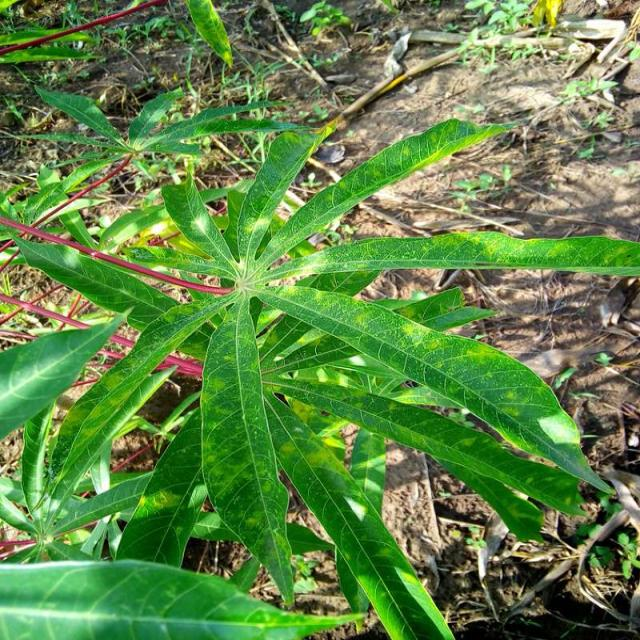cassava leaf: (2, 103, 636, 637)
